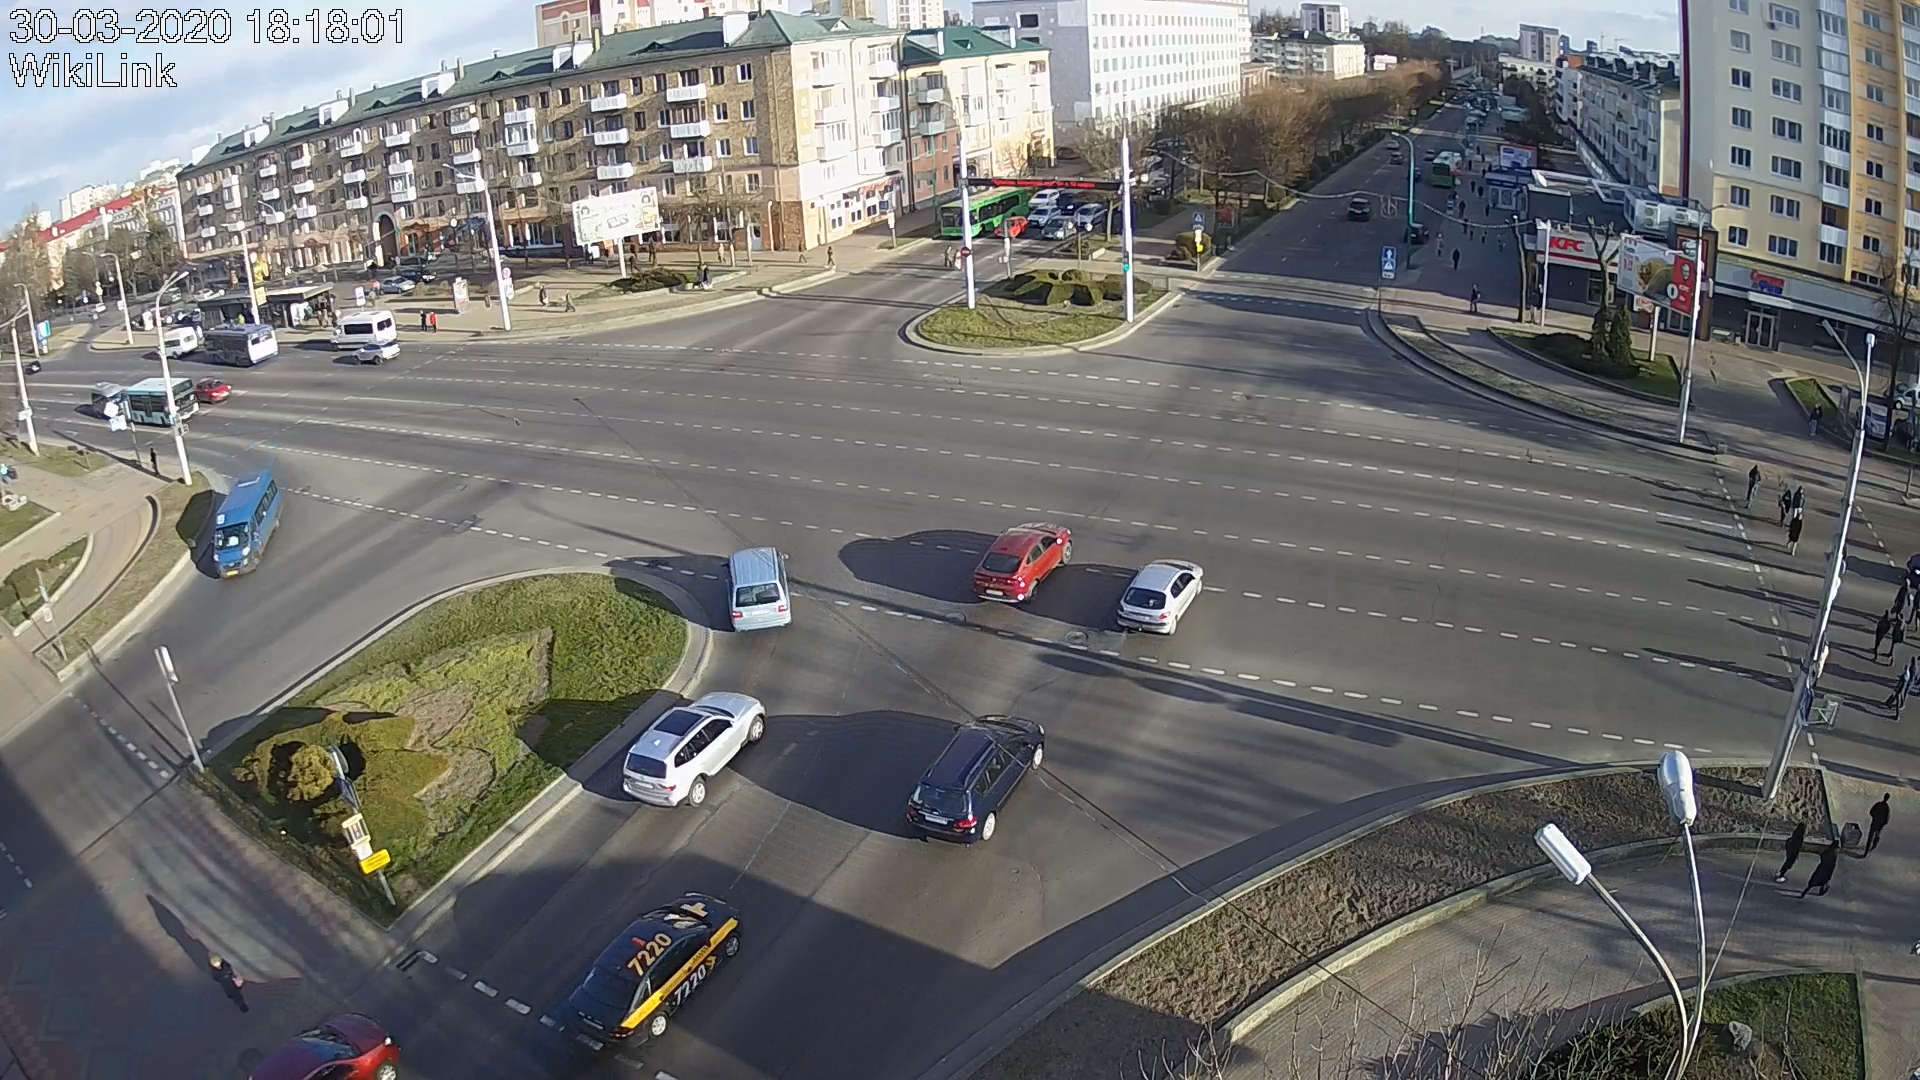bus: (940, 187, 1029, 237), (127, 376, 200, 426), (203, 322, 280, 367)
car: (567, 891, 741, 1052), (906, 715, 1044, 843), (622, 691, 766, 808), (972, 521, 1073, 604), (214, 469, 284, 579), (1116, 558, 1205, 636), (723, 545, 793, 633), (330, 310, 396, 352), (352, 340, 401, 365), (195, 376, 231, 404), (1040, 216, 1076, 240), (1073, 203, 1108, 225), (994, 216, 1029, 237), (1029, 204, 1060, 227)
